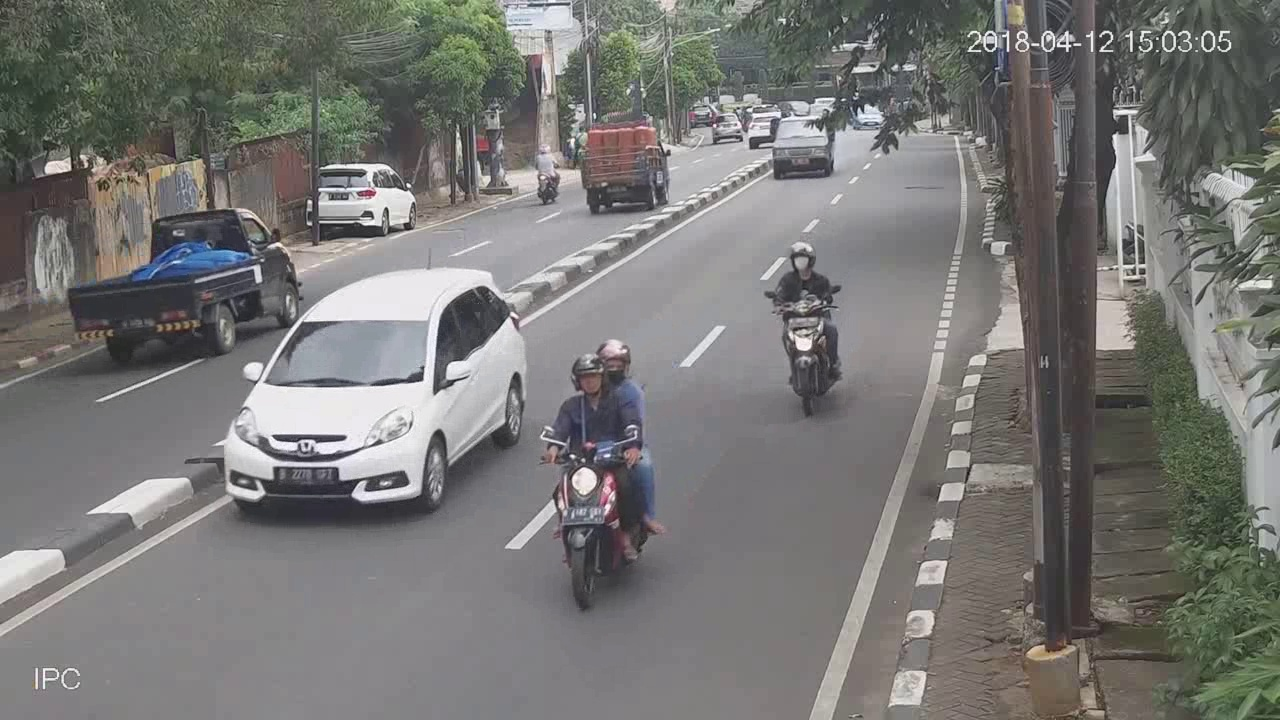car: (222, 262, 527, 519), (304, 157, 419, 238), (774, 116, 838, 179)
motorcycle: (538, 338, 664, 609), (765, 237, 848, 415), (530, 137, 564, 208)
truck: (60, 204, 299, 353), (581, 121, 671, 213)
